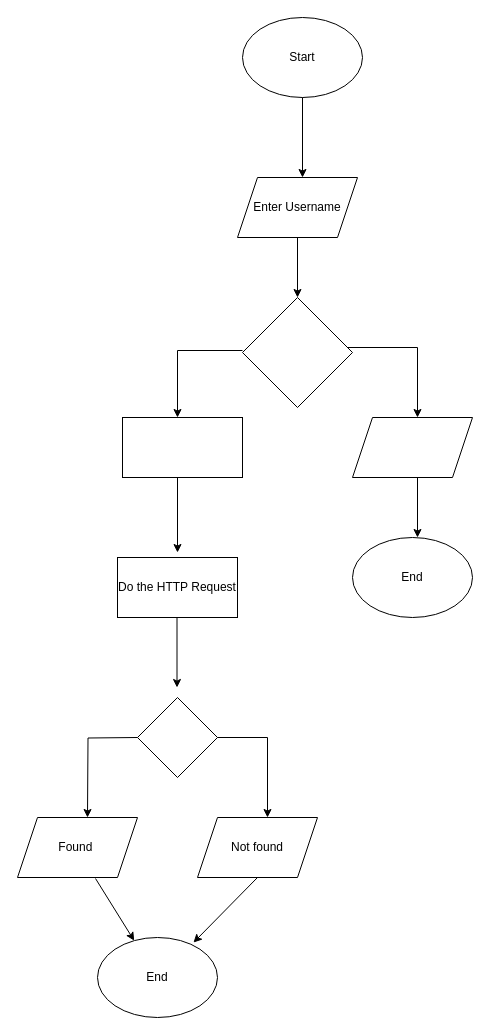
Some shapes in this 490 by 1035 pixel diagram are drawn without their labels. The shapes that lost their labels are listed below. From the top down, each one's centre as x and y in pixels, then its label:
the point at 297,352: Valid Username?
the point at 182,447: URL Build
the point at 412,447: Not Valid Username
the point at 177,737: HTTP 200 ?
